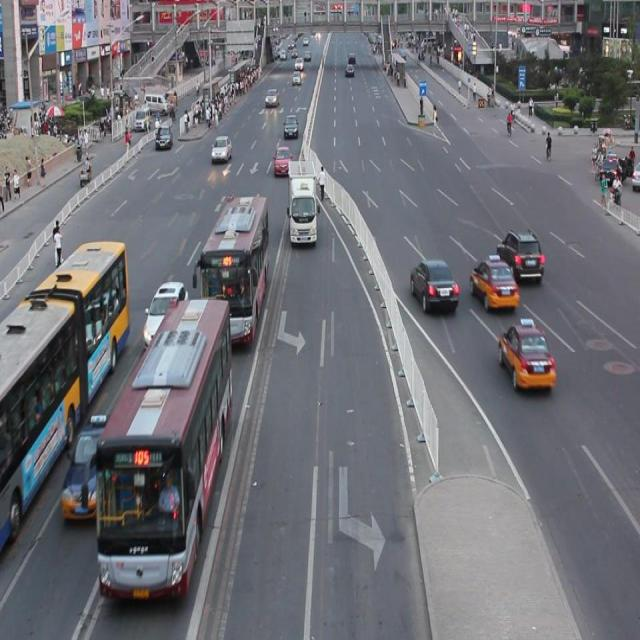bus: (285, 159, 317, 246)
car: (63, 414, 114, 520), (497, 316, 553, 392), (143, 280, 188, 346), (468, 256, 517, 307), (496, 229, 542, 283), (410, 260, 457, 310), (272, 144, 290, 175), (211, 136, 232, 160), (282, 114, 297, 137)
van: (95, 295, 230, 594), (1, 240, 129, 542), (196, 192, 269, 346)
